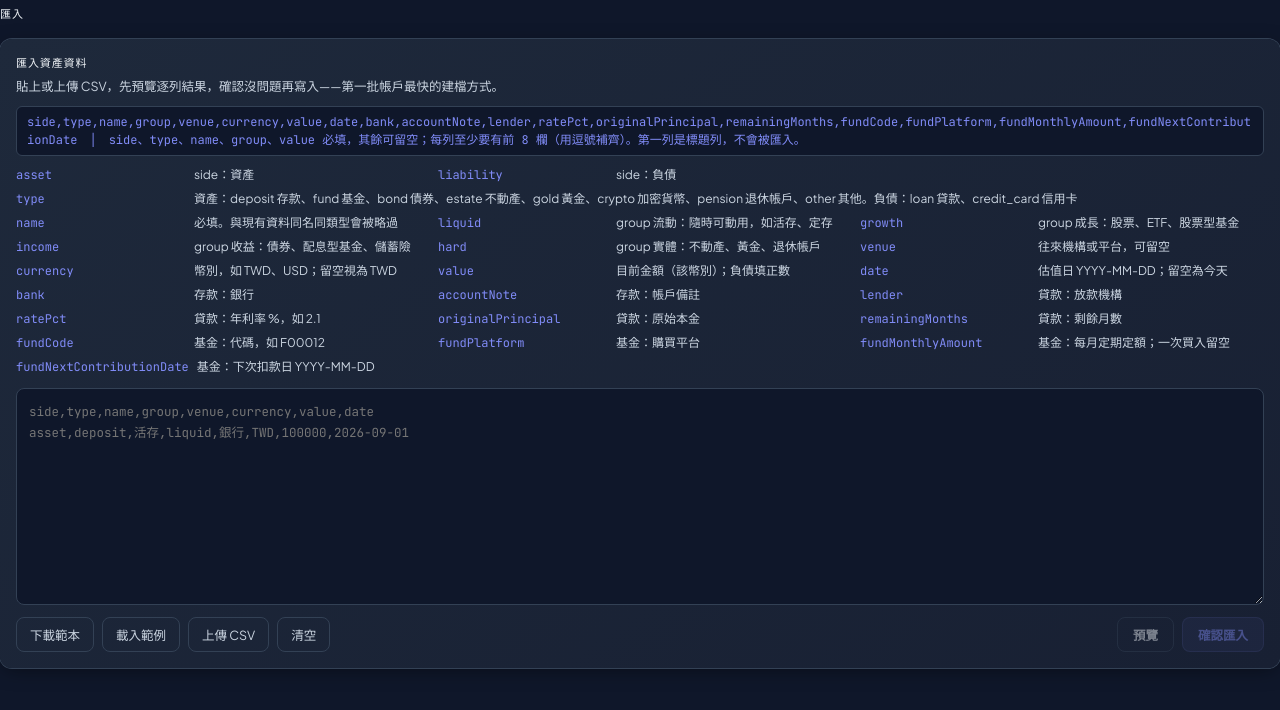
Scenario: the row-by-row result › previews without writing and shows one tagged row per line
Replace the text in the text box with "csv text". click: (640, 496)
box: [16,388,1264,605]
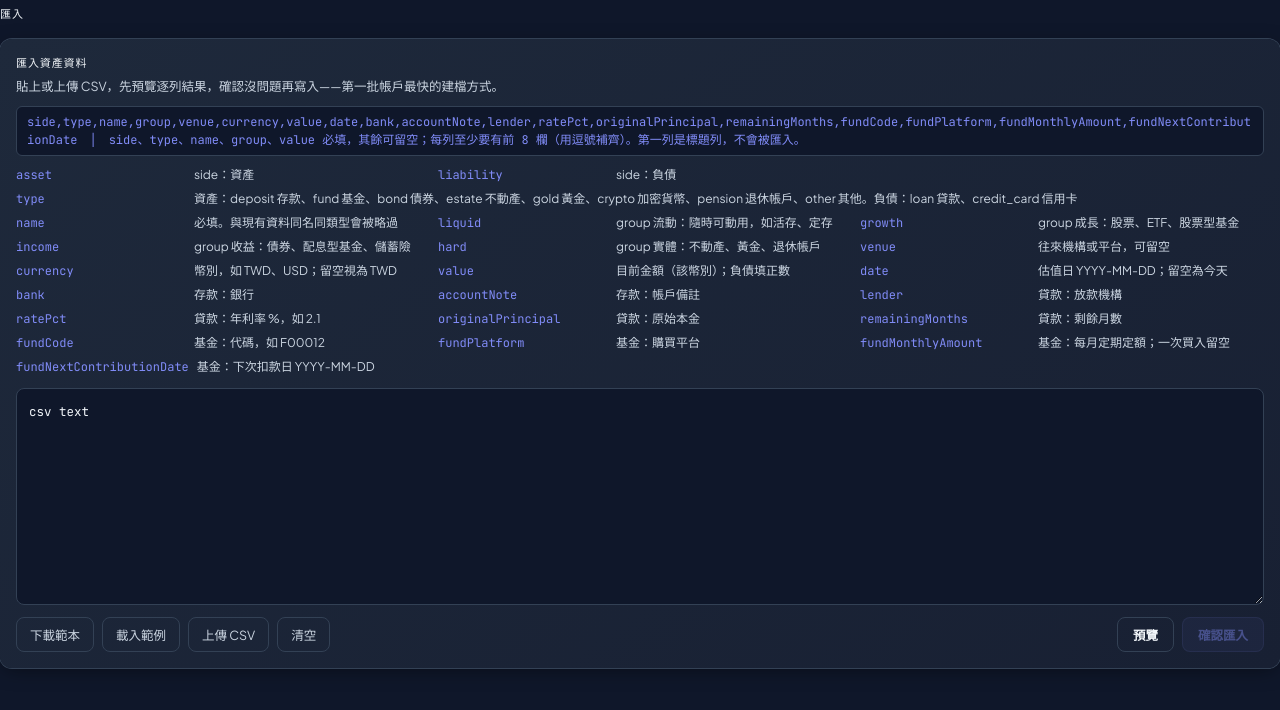
Click the button "預覽". click: (1146, 634)
box: [1117,617,1174,652]
(page scrolled)
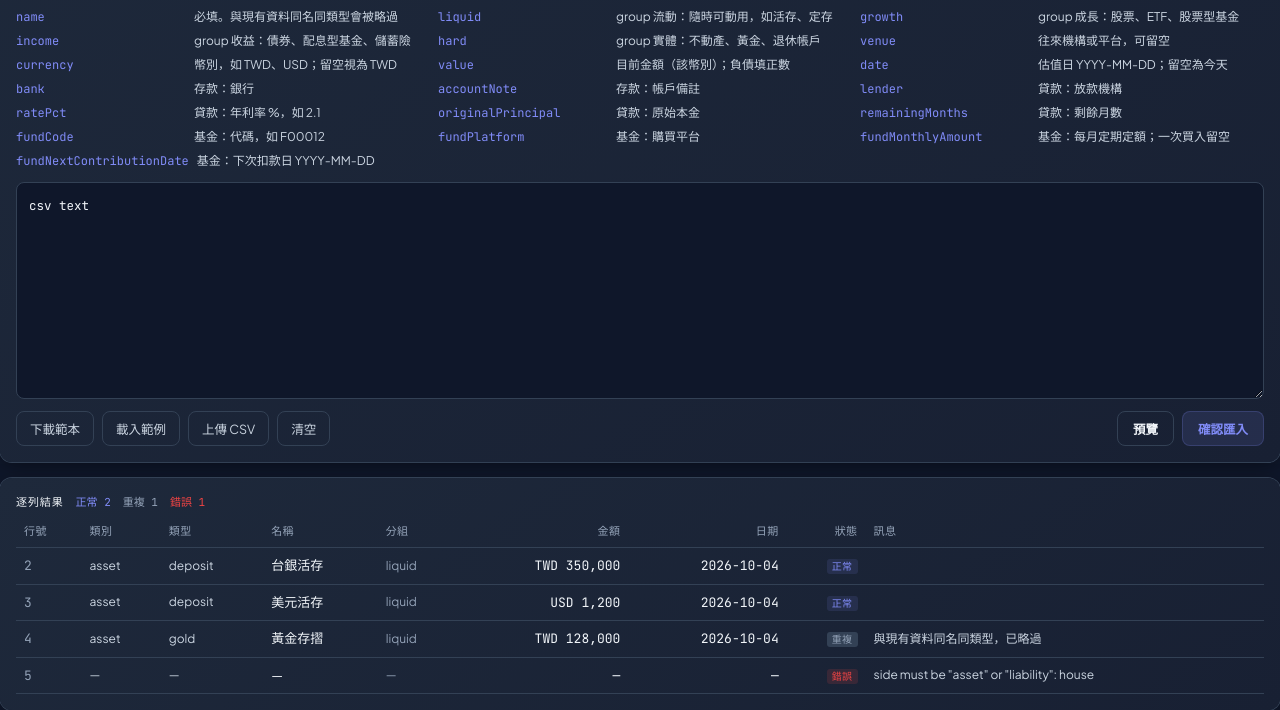
expect the text "逐列結果" is shown: met, box [16,494,64,510]
expect the text "TWD 350,000" is shown: met, box [457,548,628,584]
expect the text "USD 1,200" is shown: met, box [457,584,628,620]
